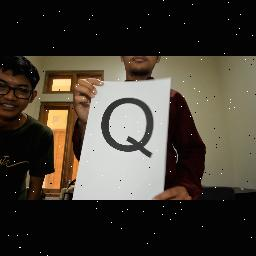q: (94, 92, 156, 158)
